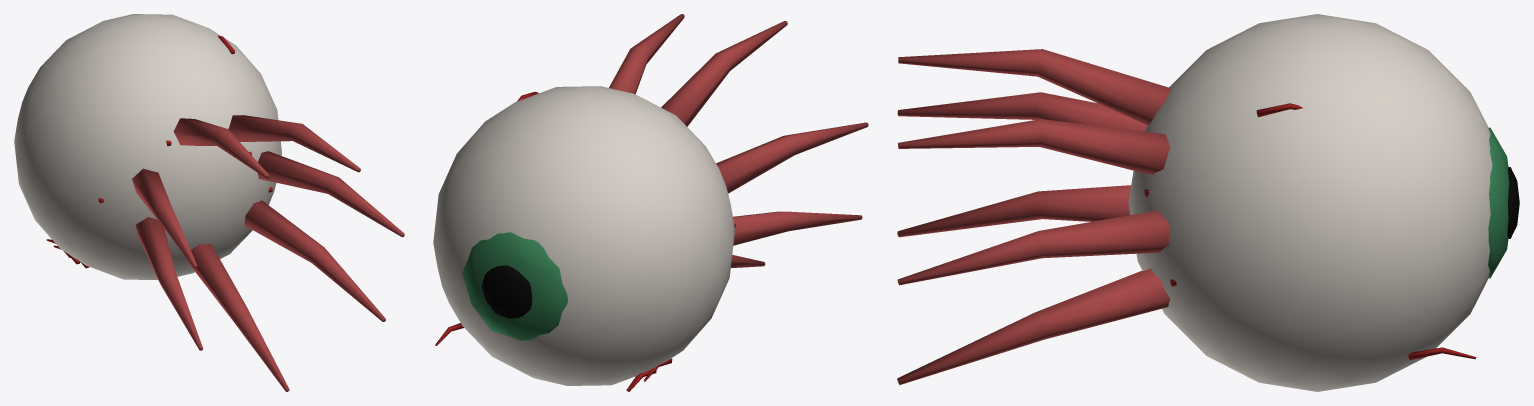
The model's file is eye_of_cthulhu.glb.
The picture shows the model from 3 angles, left to right: view 1: azimuth 30°, elevation 25°; view 2: azimuth 150°, elevation 25°; view 3: azimuth 270°, elevation 25°; orthographic projection. The views are drawn at different scales.
Parts seen in each view (by area): view 1: watcher; view 2: watcher; view 3: watcher.
Boxes of the visible parts, bbox=[...] form: watcher: bbox=[14, 14, 404, 391]; watcher: bbox=[433, 14, 868, 391]; watcher: bbox=[897, 14, 1519, 391].
Size of the model in its own units: 2.4 by 2.51 by 3.95.
